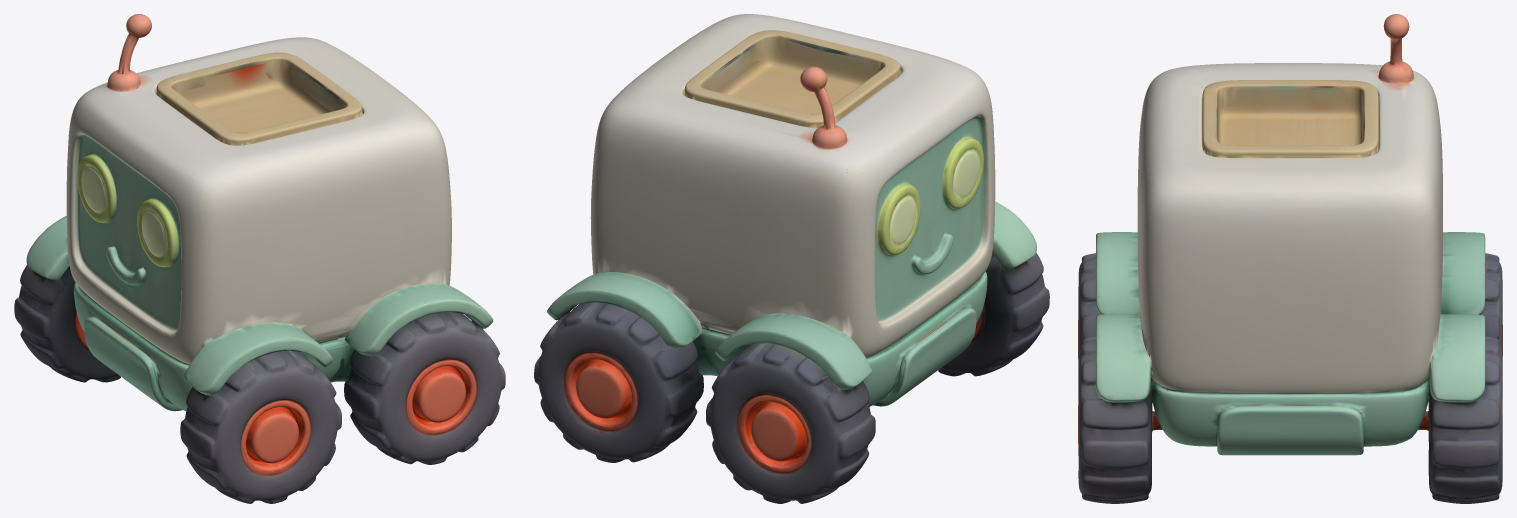
The model's file is robot.glb.
3 views of the same model, side by side, from view 1: azimuth 30°, elevation 25°; view 2: azimuth 150°, elevation 25°; view 3: azimuth 270°, elevation 25° (orthographic). The views are drawn at different scales.
Parts seen in each view (by area): view 1: node_0; view 2: node_0; view 3: node_0.
Boxes of the visible parts, x1,y1,x2,y2 form: node_0: (14, 14, 505, 503); node_0: (534, 14, 1049, 503); node_0: (1078, 14, 1502, 503).
Size of the model in its own units: 0.6835 by 0.8198 by 0.7853.
Materials: 1 (1 with a texture image).
